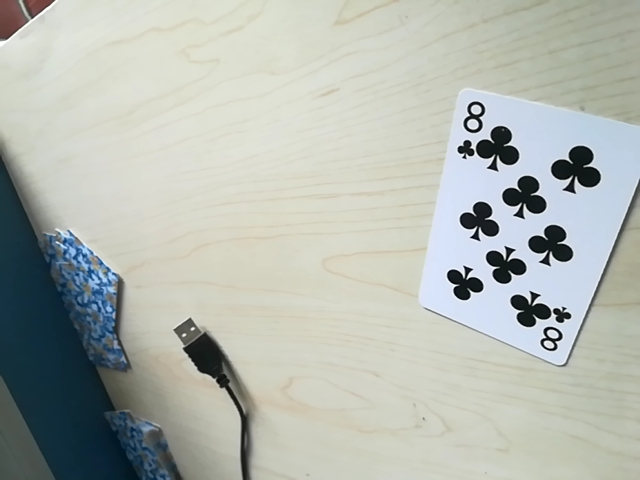mh 8: (453, 95, 497, 155), (529, 307, 578, 357)
